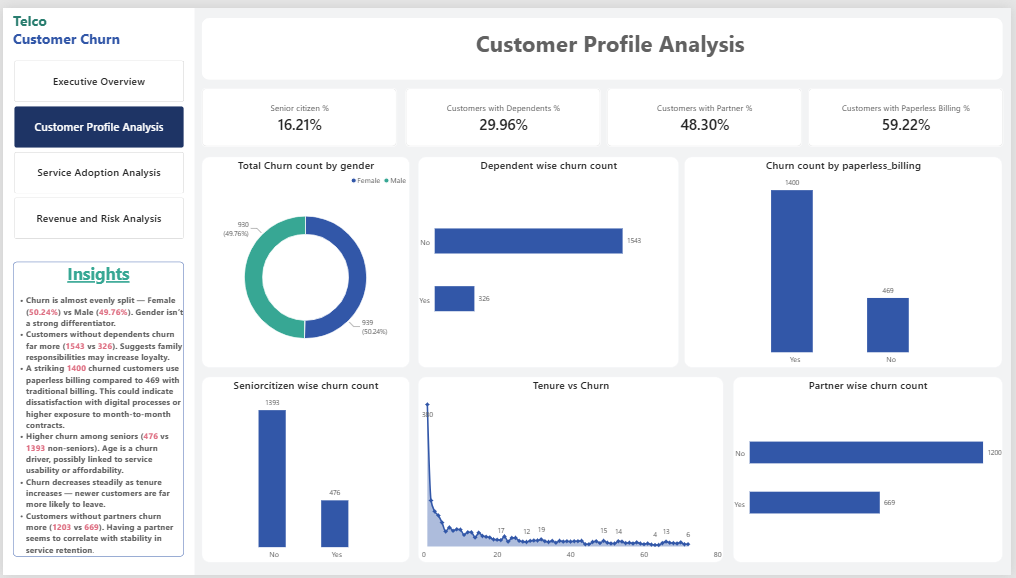

The page's visual inventory and layout, read from the dashboard file:
{"tool":"powerbi","page":{"name":"Customer Profile Analysis","canvas":[1920,1080],"ordinal":1},"visuals":[{"type":"donutChart","title":"Total Churn count by gender","fields":{"Category":["public customer.gender"],"Y":["CountNonNull(public customer.churn)"]},"box":[379.1,283.4,395.7,401.2],"z":0},{"type":"columnChart","title":"Seniorcitizen wise churn count","fields":{"Category":["public customer.senior_citizen"],"Y":["CountNonNull(public customer.senior_citizen)"]},"box":[379.1,703.1,395.7,353.4],"z":1000},{"type":"barChart","title":"Partner wise churn count","fields":{"Category":["public customer.partner"],"Y":["CountNonNull(public customer.partner)"]},"box":[1389.6,703.1,513.5,353.4],"z":2000},{"type":"barChart","title":"Dependent wise churn count","fields":{"Category":["public customer.dependents"],"Y":["CountNonNull(public customer.dependents)"]},"box":[789.6,283.4,496.9,401.2],"z":3000},{"type":"columnChart","title":"Churn count by paperless_billing","fields":{"Category":["public customer.paperless_billing"],"Y":["CountNonNull(public customer.churn)"]},"box":[1297.6,283.4,605.5,401.2],"z":4000},{"type":"lineChart","title":"Tenure vs Churn","fields":{"Category":["public customer.tenure"],"Y":["CountNonNull(public customer.churn)"]},"box":[789.6,703.1,581.6,353.4],"z":5000},{"type":"shape","box":[0,0,364.4,1080.4],"z":6000},{"type":"textbox","box":[18.4,3.7,323.9,95.7],"z":7000},{"type":"pageNavigator","box":[20.2,99.4,323.9,342.3],"z":8000},{"type":"shape","box":[379.1,18.4,1525.8,117.8],"z":9000},{"type":"textbox","box":[410.4,38.7,1494.5,73.6],"z":10000},{"type":"cardVisual","title":"Total Customers","fields":{"Data":["Measure Table.Senior citizen %"]},"box":[379.1,152.8,372,112.3],"z":11000},{"type":"cardVisual","title":"Total Customers","fields":{"Data":["Measure Table.Customers with Dependents %"]},"box":[766,152,372,112.3],"z":12000},{"type":"cardVisual","title":"Total Customers","fields":{"Data":["Measure Table.Customers with Partner %"]},"box":[1149,152,372,112.3],"z":13000},{"type":"cardVisual","title":"Total Customers","fields":{"Data":["Measure Table.Customers with Paperless Billing %"]},"box":[1533,152.8,372,112.3],"z":14000},{"type":"textbox","box":[18.4,484.1,325.8,561.4],"z":15000}]}

Visuals, with their boxes on the page's 1920x1080 design canvas (x1, y1, x2, y2). These are canvas units, not pixel positions in the 1016x578 screenshot, which may show the page scaled, cropped or inside an application window:
"Total Churn count by gender" donutChart: pyautogui.locateOnScreen(379, 283, 775, 685)
"Seniorcitizen wise churn count" columnChart: pyautogui.locateOnScreen(379, 703, 775, 1056)
"Partner wise churn count" barChart: pyautogui.locateOnScreen(1390, 703, 1903, 1056)
"Dependent wise churn count" barChart: pyautogui.locateOnScreen(790, 283, 1286, 685)
"Churn count by paperless_billing" columnChart: pyautogui.locateOnScreen(1298, 283, 1903, 685)
"Tenure vs Churn" lineChart: pyautogui.locateOnScreen(790, 703, 1371, 1056)
shape: pyautogui.locateOnScreen(0, 0, 364, 1080)
textbox: pyautogui.locateOnScreen(18, 4, 342, 99)
pageNavigator: pyautogui.locateOnScreen(20, 99, 344, 442)
shape: pyautogui.locateOnScreen(379, 18, 1905, 136)
textbox: pyautogui.locateOnScreen(410, 39, 1905, 112)
"Total Customers" cardVisual: pyautogui.locateOnScreen(379, 153, 751, 265)
"Total Customers" cardVisual: pyautogui.locateOnScreen(766, 152, 1138, 264)
"Total Customers" cardVisual: pyautogui.locateOnScreen(1149, 152, 1521, 264)
"Total Customers" cardVisual: pyautogui.locateOnScreen(1533, 153, 1905, 265)
textbox: pyautogui.locateOnScreen(18, 484, 344, 1046)
